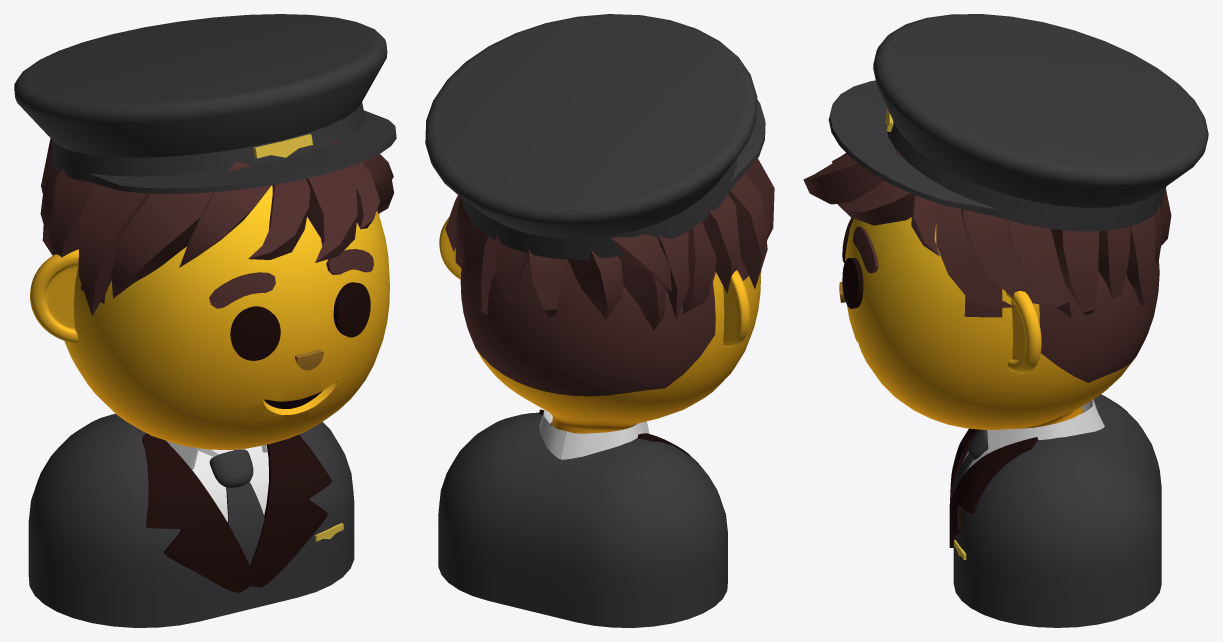
The model's file is Pilot.gltf.
3 views of the same model, side by side, from view 1: azimuth 30°, elevation 25°; view 2: azimuth 150°, elevation 25°; view 3: azimuth 270°, elevation 25° (orthographic). The views are drawn at different scales.
Parts seen in each view (by area): view 1: Circle.739, Roundcube.132, Sphere.092, Circle.736, Cube.1627, Cube.1623, Circle.733, Cube.1622, Cylinder.110, Cube.1628, Cube.1616, Cube.1620 (+8 smaller); view 2: Circle.739, Sphere.092, Roundcube.132, Cube.1623, Plane.069, Cube.1613, Cylinder.110, Cube.1609, Cube.1620, Cube.1618, Cube.1621, Cube.1615 (+4 smaller); view 3: Circle.739, Roundcube.132, Sphere.092, Cube.1626, Cube.1614, Circle.736, Cube.1629, Cube.1612, Cube.1622, Cube.1624, Cylinder.110, Plane.069 (+5 smaller).
Part boxes in pixels (x1=…): Circle.739: x1=14, y1=14, x2=396, y2=193; Roundcube.132: x1=64, y1=185, x2=389, y2=450; Sphere.092: x1=28, y1=414, x2=354, y2=627; Circle.736: x1=142, y1=433, x2=331, y2=592; Cube.1627: x1=111, y1=192, x2=214, y2=298; Cube.1623: x1=78, y1=183, x2=150, y2=315; Circle.733: x1=230, y1=282, x2=370, y2=360; Cube.1622: x1=306, y1=141, x2=357, y2=262; Cylinder.110: x1=30, y1=214, x2=379, y2=343; Cube.1628: x1=179, y1=161, x2=271, y2=267; Cube.1616: x1=248, y1=178, x2=310, y2=259; Cube.1620: x1=49, y1=169, x2=94, y2=257; Circle.739: x1=425, y1=14, x2=765, y2=259; Sphere.092: x1=438, y1=412, x2=727, y2=627; Roundcube.132: x1=460, y1=259, x2=761, y2=433; Cube.1623: x1=728, y1=173, x2=767, y2=288; Plane.069: x1=539, y1=410, x2=649, y2=459; Cube.1613: x1=568, y1=250, x2=623, y2=319; Cylinder.110: x1=439, y1=217, x2=750, y2=346; Cube.1609: x1=463, y1=218, x2=495, y2=314; Cube.1620: x1=702, y1=194, x2=740, y2=293; Cube.1618: x1=682, y1=221, x2=717, y2=314; Cube.1621: x1=620, y1=259, x2=666, y2=331; Cube.1615: x1=611, y1=234, x2=671, y2=291; Circle.739: x1=828, y1=14, x2=1208, y2=231; Roundcube.132: x1=845, y1=210, x2=1159, y2=429; Sphere.092: x1=953, y1=394, x2=1161, y2=627; Cube.1626: x1=936, y1=204, x2=1014, y2=308; Cube.1614: x1=968, y1=211, x2=1050, y2=304; Circle.736: x1=949, y1=428, x2=1038, y2=547; Cube.1629: x1=1007, y1=219, x2=1071, y2=317; Cube.1612: x1=1051, y1=229, x2=1099, y2=315; Cube.1622: x1=803, y1=151, x2=899, y2=204; Cube.1624: x1=837, y1=181, x2=913, y2=225; Cylinder.110: x1=1006, y1=291, x2=1041, y2=373; Plane.069: x1=987, y1=399, x2=1104, y2=452.
Bounding box in the file's own units: 1.63 × 2.48 × 1.8.
8 materials, 2 textured.
